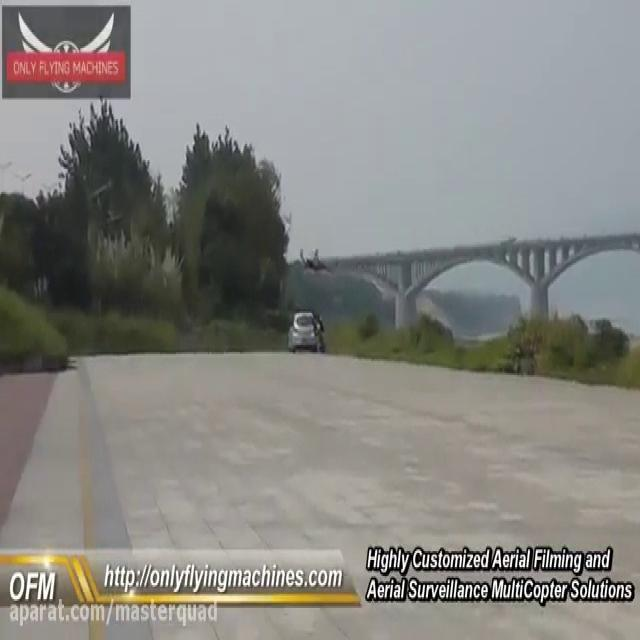drone: (298, 242, 328, 274)
